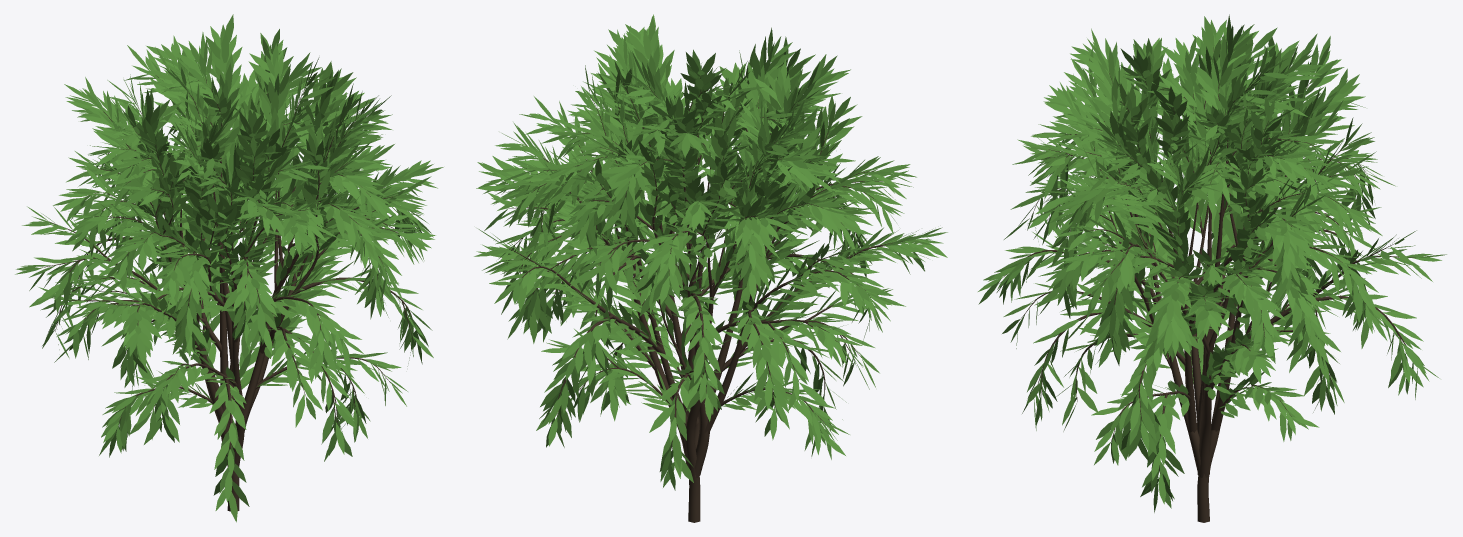
The model's file is bush2.glb.
The picture shows the model from 3 angles, left to right: view 1: azimuth 30°, elevation 25°; view 2: azimuth 150°, elevation 25°; view 3: azimuth 270°, elevation 25°; orthographic projection. The views are drawn at different scales.
Visible parts, largest first — view 1: leaves.004, bush2; view 2: leaves.004, bush2; view 3: leaves.004, bush2.
Part boxes in pixels (x1,y1,x2,y2): leaves.004: (15,14,443,522); bush2: (42,75,413,511); leaves.004: (474,14,947,490); bush2: (507,76,904,522); leaves.004: (978,14,1446,512); bush2: (1003,47,1415,522).
Bounding box in the file's own units: 14.2 × 15.24 × 13.29.
